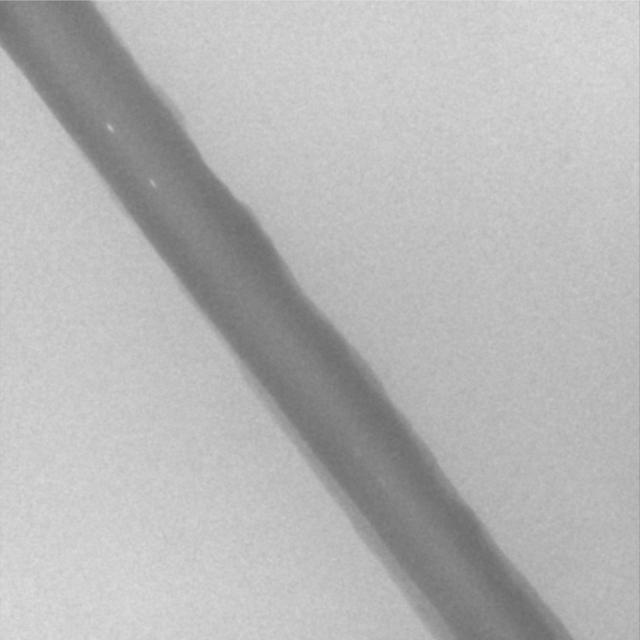air hole: (147, 176, 158, 189), (103, 122, 114, 133)
